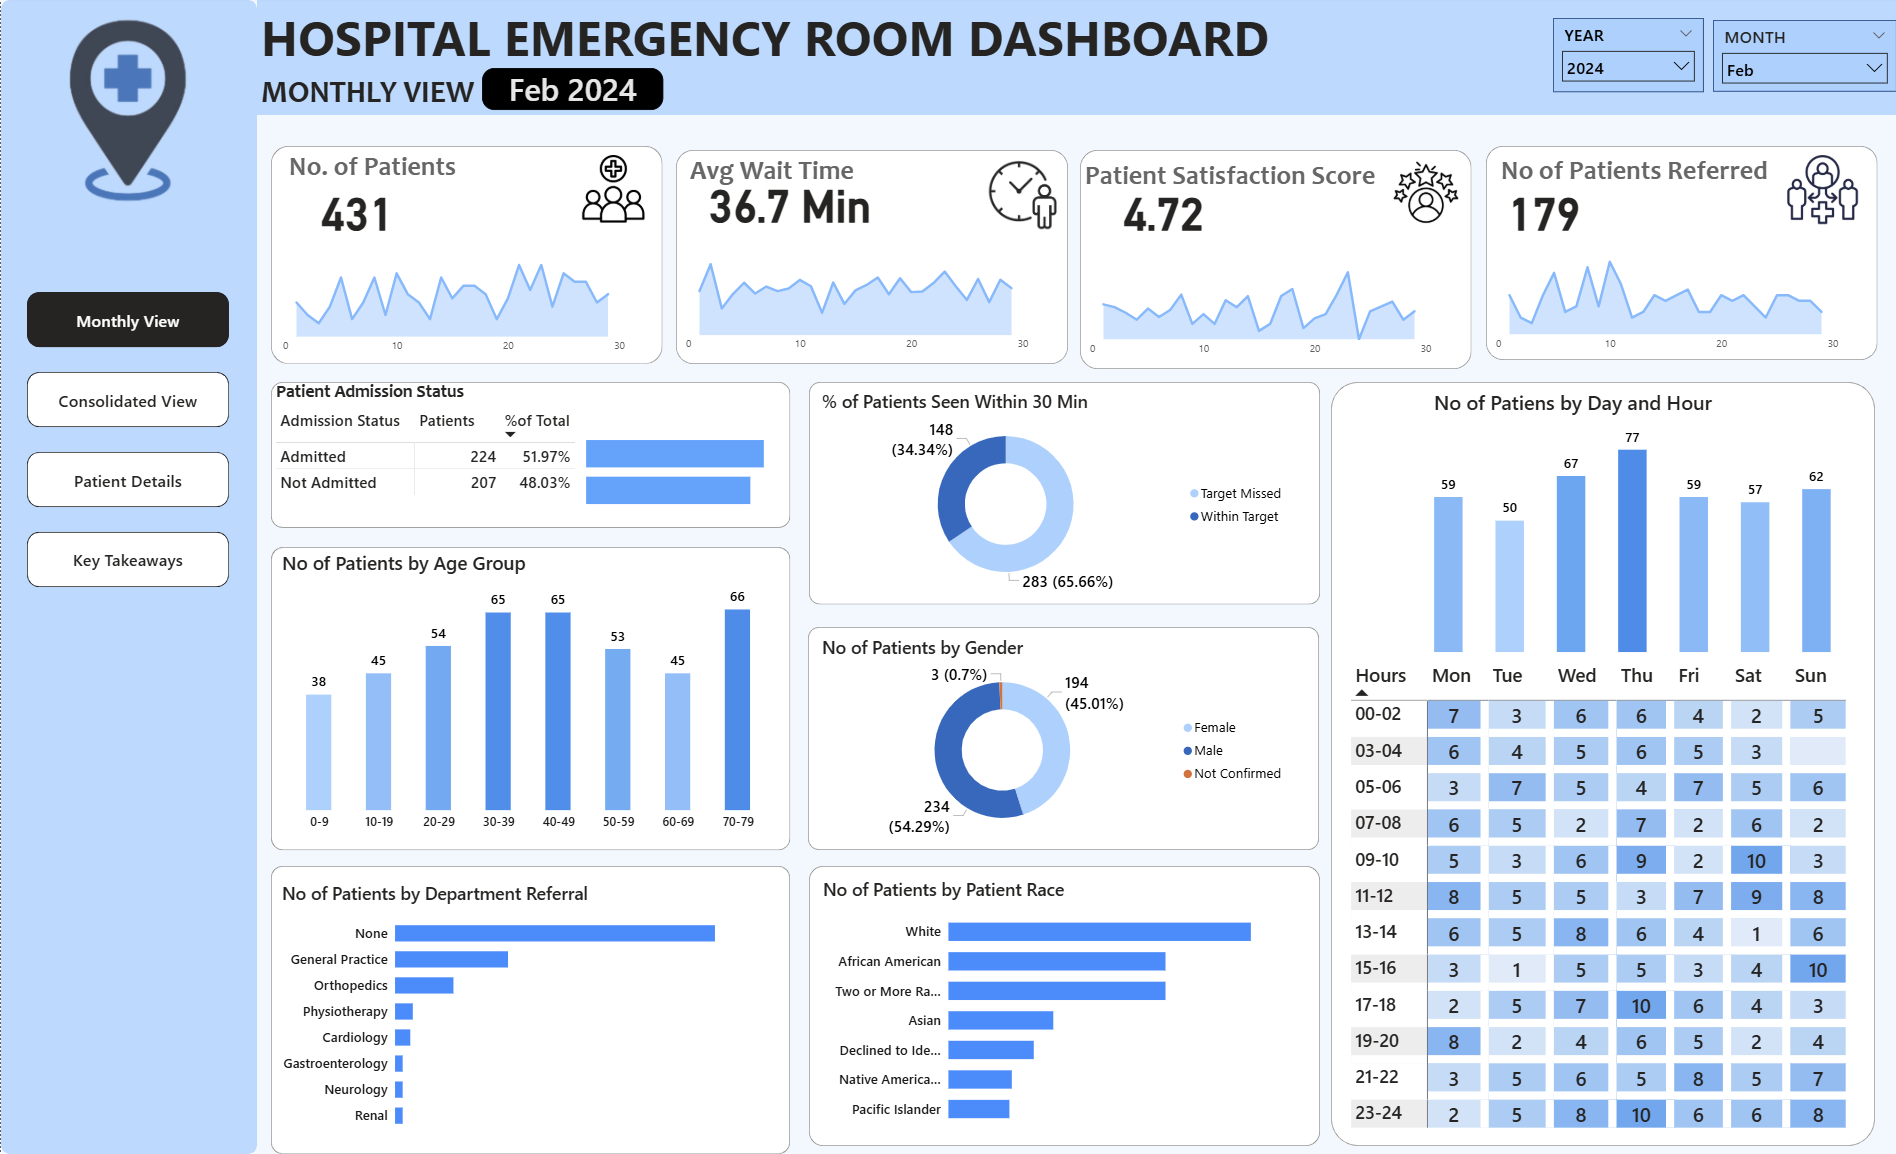

This screenshot's page, from the dashboard's own definition file:
{"tool":"powerbi","page":{"name":"Monthly View","canvas":[2300,1400],"ordinal":0},"visuals":[{"type":"shape","box":[327.6,177.1,475,264.5],"z":0},{"type":"shape","box":[0,0,310.6,1400],"z":1000},{"type":"shape","box":[310.6,0,1989.6,139.5],"z":2000},{"type":"textbox","box":[310.6,0,1269,92.2],"z":3000},{"type":"textbox","box":[310,82.5,292.5,57.5],"z":4000},{"type":"card","fields":{"Values":["Date Table.No of Patients"]},"box":[361.5,214.7,140.7,76.4],"z":5000},{"type":"slicer","fields":{"Values":["Date Table.YEAR"]},"box":[1882.8,21.8,183.2,89.8],"z":6000},{"type":"slicer","fields":{"Values":["Date Table.MONTH"]},"box":[2076.9,24.3,223.2,87.3],"z":7000},{"type":"textbox","box":[345,177.5,362.5,52.5],"z":8000},{"type":"areaChart","fields":{"Category":["Date Table.Date.Variation.Date Hierarchy.Day"],"Y":["Date Table.No of Patients"]},"box":[330,292.5,435,145],"z":9000},{"type":"shape","box":[818.9,182,475.6,259.6],"z":10000},{"type":"card","fields":{"Values":["Hospital ER_Data.Avg Wait Time"]},"box":[850.4,208.7,213.5,69.2],"z":11000},{"type":"textbox","box":[831,182,361.5,53.4],"z":12000},{"type":"areaChart","fields":{"Category":["Date Table.Date.Variation.Date Hierarchy.Day"],"Y":["Avg(Hospital ER_Data.Patient Waittime)"]},"box":[818.9,291.2,435.5,144.4],"z":13000},{"type":"shape","box":[1309,182,475,265.7],"z":14000},{"type":"card","fields":{"Values":["Hospital ER_Data.Satisfaction Score"]},"box":[1339.3,218.4,141.9,69.2],"z":15000},{"type":"textbox","box":[1310.2,188,362.7,53.4],"z":16000},{"type":"areaChart","fields":{"Category":["Date Table.Date.Variation.Date Hierarchy.Day"],"Y":["Sum(Hospital ER_Data.Patient Satisfaction Score)"]},"box":[1309,296,434.3,145.6],"z":17000},{"type":"shape","box":[1801.6,177.1,475,259.6],"z":18000},{"type":"card","fields":{"Values":["Hospital ER_Data.No of Patients Referred"]},"box":[1814.9,214.7,114,77.6],"z":19000},{"type":"shape","box":[327.5,463.8,630,177],"z":20000},{"type":"textbox","box":[1814.9,182,362.7,53.4],"z":21000},{"type":"areaChart","fields":{"Category":["Date Table.Date.Variation.Date Hierarchy.Day"],"Y":["Hospital ER_Data.No of Patients Referred"]},"box":[1801.6,289.9,435.5,145.6],"z":22000},{"type":"card","fields":{"Values":["Min(Date Table.Month & Year)"]},"box":[583.8,82.5,220,51.2],"z":23000},{"type":"pivotTable","title":"Patient Admission Status","fields":{"Rows":["Hospital ER_Data.Admission Status"],"Values":["Date Table.No of Patients","Divide(Date Table.No of Patients, ScopedEval(Date Table.No of Patients, []))"]},"box":[328.8,462.2,622.4,178.3],"z":24000},{"type":"barChart","fields":{"Category":["Hospital ER_Data.Admission Status"],"Y":["Date Table.No of Patients"]},"box":[705,498.8,298.8,142.5],"z":25000},{"type":"shape","box":[327.5,663.8,630,368],"z":26000},{"type":"clusteredColumnChart","fields":{"Category":["Hospital ER_Data.Age Group"],"Y":["Date Table.No of Patients"]},"box":[336.2,667.5,608.8,350],"z":27000},{"type":"shape","box":[327.6,1050.6,629.6,349.4],"z":28000},{"type":"clusteredBarChart","fields":{"Category":["Hospital ER_Data.Department Referral"],"Y":["Date Table.No of Patients"]},"box":[336,1068.8,609,313],"z":29000},{"type":"shape","box":[980.2,463.4,620,270],"z":30000},{"type":"donutChart","title":"% of Patients Seen Within 30 Min","fields":{"Y":["Date Table.No of Patients"],"Category":["Hospital ER_Data.Waittime"]},"box":[991.2,471.9,576.3,251.1],"z":31000},{"type":"shape","box":[979,760.7,620,270.5],"z":32000},{"type":"donutChart","title":"No of Patients by Gender","fields":{"Y":["Date Table.No of Patients"],"Series":["Hospital ER_Data.Patient Gender"]},"box":[991.2,770.4,576.3,251.1],"z":33000},{"type":"shape","box":[980.2,1050.6,620,339.7],"z":34000},{"type":"clusteredBarChart","fields":{"Y":["Date Table.No of Patients"],"Category":["Hospital ER_Data.Patient Race"]},"box":[992.4,1064,576.3,313],"z":35000},{"type":"shape","box":[1613.5,463.4,660,926.9],"z":36000},{"type":"pivotTable","fields":{"Rows":["Hospital ER_Data.Waittime Interval"],"Columns":["Date Table.Day Name"],"Values":["Date Table.No of Patients"]},"box":[1632.9,797.1,628.4,579.9],"z":37000},{"type":"clusteredColumnChart","title":"No of Patiens by Day and Hour","fields":{"Category":["Date Table.Day Name"],"Y":["Date Table.No of Patients"]},"box":[1733.6,471.9,493.8,325.1],"z":38000},{"type":"image","box":[693.9,188,98.3,82.5],"z":39000},{"type":"image","box":[1190.1,194.1,99.5,83.7],"z":40000},{"type":"image","box":[2158.2,188,103.1,83.7],"z":41000},{"type":"image","box":[1673,194.1,111.6,77.6],"z":42000},{"type":"image","box":[9.7,14.6,300.9,239],"z":43000},{"type":"pageNavigator","box":[31.5,354.2,245.1,359.1],"z":44000}]}

Visuals, with their boxes in screenshot pixels (x1, y1, x2, y2), scaled from the page's 2300x1400 canvas onto the 1896x1154 screenshot:
shape: locate(270, 146, 662, 364)
shape: locate(0, 0, 256, 1153)
shape: locate(256, 0, 1895, 115)
textbox: locate(256, 0, 1302, 76)
textbox: locate(256, 68, 497, 115)
card - Date Table.No of Patients: locate(298, 177, 414, 240)
slicer - Date Table.YEAR: locate(1552, 18, 1703, 92)
slicer - Date Table.MONTH: locate(1712, 20, 1895, 92)
textbox: locate(284, 146, 583, 190)
areaChart - Date Table.Date.Variation.Date Hierarchy.Day x Date Table.No of Patients: locate(272, 241, 631, 361)
shape: locate(675, 150, 1067, 364)
card - Hospital ER_Data.Avg Wait Time: locate(701, 172, 877, 229)
textbox: locate(685, 150, 983, 194)
areaChart - Date Table.Date.Variation.Date Hierarchy.Day x Avg(Hospital ER_Data.Patient Waittime): locate(675, 240, 1034, 359)
shape: locate(1079, 150, 1471, 369)
card - Hospital ER_Data.Satisfaction Score: locate(1104, 180, 1221, 237)
textbox: locate(1080, 155, 1379, 199)
areaChart - Date Table.Date.Variation.Date Hierarchy.Day x Sum(Hospital ER_Data.Patient Satisfaction Score): locate(1079, 244, 1437, 364)
shape: locate(1485, 146, 1877, 360)
card - Hospital ER_Data.No of Patients Referred: locate(1496, 177, 1590, 241)
shape: locate(270, 382, 789, 528)
textbox: locate(1496, 150, 1795, 194)
areaChart - Date Table.Date.Variation.Date Hierarchy.Day x Hospital ER_Data.No of Patients Referred: locate(1485, 239, 1844, 359)
card - Min(Date Table.Month & Year): locate(481, 68, 663, 110)
"Patient Admission Status" pivotTable: locate(271, 381, 784, 528)
barChart - Hospital ER_Data.Admission Status x Date Table.No of Patients: locate(581, 411, 827, 529)
shape: locate(270, 547, 789, 850)
clusteredColumnChart - Hospital ER_Data.Age Group x Date Table.No of Patients: locate(277, 550, 779, 839)
shape: locate(270, 866, 789, 1153)
clusteredBarChart - Hospital ER_Data.Department Referral x Date Table.No of Patients: locate(277, 881, 779, 1139)
shape: locate(808, 382, 1319, 605)
"% of Patients Seen Within 30 Min" donutChart: locate(817, 389, 1292, 596)
shape: locate(807, 627, 1318, 850)
"No of Patients by Gender" donutChart: locate(817, 635, 1292, 842)
shape: locate(808, 866, 1319, 1146)
clusteredBarChart - Date Table.No of Patients x Hospital ER_Data.Patient Race: locate(818, 877, 1293, 1135)
shape: locate(1330, 382, 1874, 1146)
pivotTable - Hospital ER_Data.Waittime Interval x Date Table.Day Name: locate(1346, 657, 1864, 1135)
"No of Patiens by Day and Hour" clusteredColumnChart: locate(1429, 389, 1836, 657)
image: locate(572, 155, 653, 223)
image: locate(981, 160, 1063, 229)
image: locate(1779, 155, 1864, 224)
image: locate(1379, 160, 1471, 224)
image: locate(8, 12, 256, 209)
pageNavigator: locate(26, 292, 228, 588)
